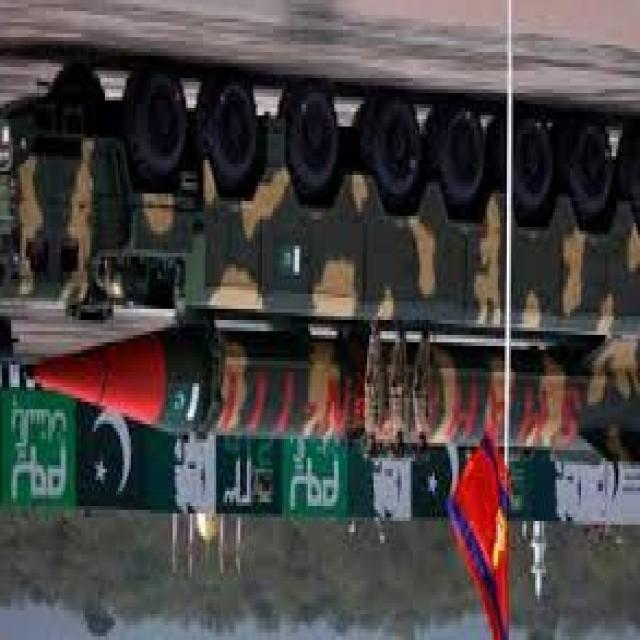Missile: (18, 330, 590, 454)
